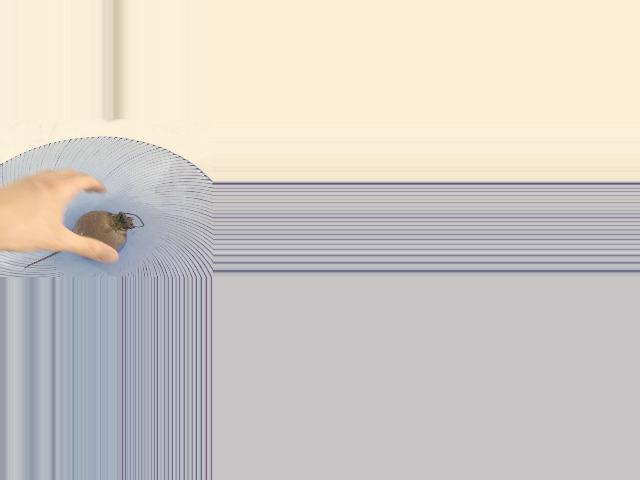beet: (25, 210, 144, 268)
